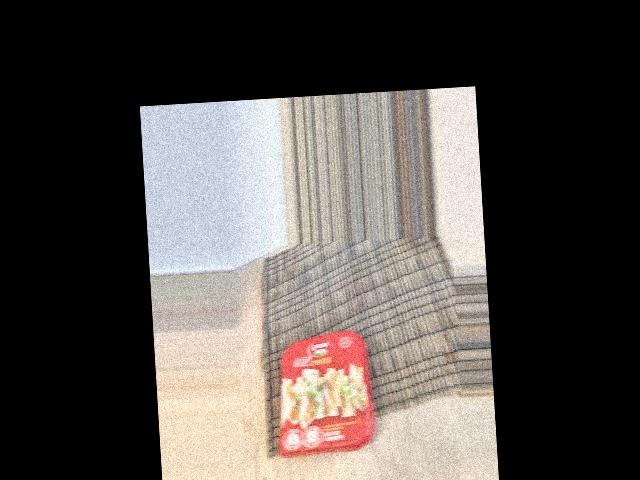cheese: (323, 329, 459, 426)
